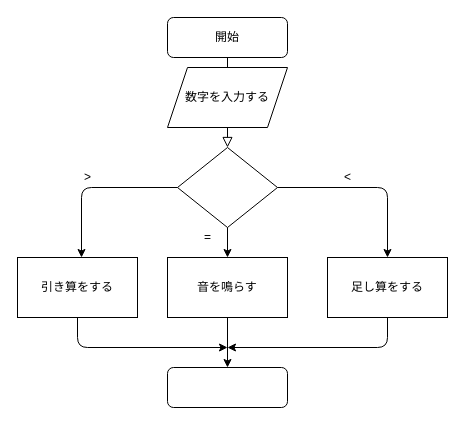
The diagram is 465 pixels wide and 425 high, and some of its shapes have lost their labels. The shapes that lost their labels are listed below. From the top down, each one's centre as x and y in pixels, then its label:
point (227, 187): 入力データ：５
point (227, 387): 終了
